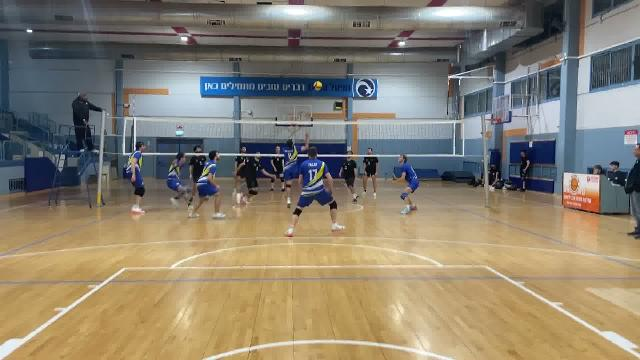ball: (309, 80, 325, 92)
